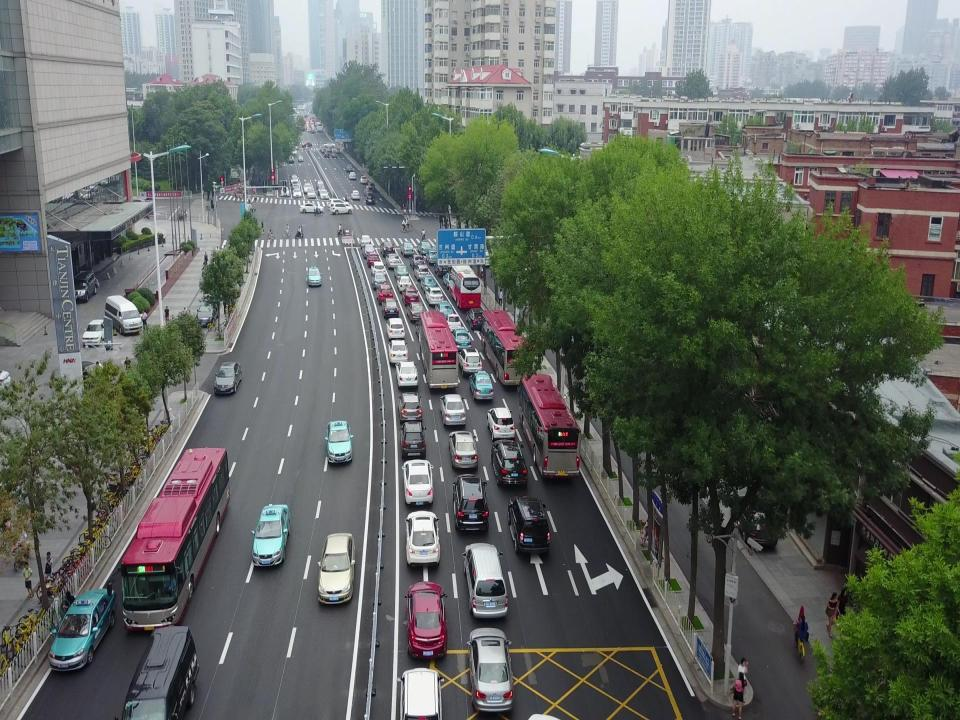bus: (122, 447, 230, 634), (518, 374, 582, 481), (480, 308, 532, 389), (419, 310, 460, 389), (448, 265, 482, 313)
car: (48, 587, 116, 673), (466, 627, 516, 710), (405, 581, 448, 658), (730, 494, 778, 550), (507, 495, 551, 556), (318, 534, 356, 604), (250, 503, 290, 567), (398, 667, 444, 719), (452, 472, 490, 532), (490, 438, 530, 489), (403, 511, 442, 563), (401, 459, 435, 504), (323, 419, 355, 462), (448, 430, 480, 467), (213, 359, 243, 396), (437, 393, 468, 428), (400, 418, 428, 456), (486, 405, 516, 440), (68, 360, 104, 389), (68, 272, 98, 303), (396, 390, 423, 421), (469, 370, 494, 400), (193, 300, 220, 327), (82, 319, 108, 346), (459, 347, 482, 376), (394, 360, 418, 387), (415, 318, 441, 342), (388, 339, 410, 364), (406, 301, 428, 323), (466, 308, 488, 330), (452, 326, 472, 350), (385, 316, 405, 340), (435, 301, 455, 320), (377, 283, 394, 305), (381, 298, 399, 317), (444, 313, 462, 332), (426, 287, 444, 306), (306, 266, 322, 287), (370, 272, 388, 290), (402, 287, 420, 305), (412, 264, 431, 281), (420, 275, 436, 294), (442, 272, 459, 289), (386, 252, 403, 268), (434, 260, 450, 277), (300, 202, 324, 213), (330, 203, 354, 214), (370, 261, 386, 277), (396, 276, 412, 292), (379, 241, 395, 257), (366, 251, 381, 268), (394, 264, 409, 280), (327, 198, 350, 208), (401, 241, 415, 257), (426, 250, 440, 266), (363, 243, 377, 258), (418, 241, 432, 256), (409, 254, 425, 267), (360, 234, 372, 248), (364, 193, 376, 205), (350, 189, 360, 199), (367, 182, 375, 192), (348, 171, 356, 179), (360, 176, 368, 183), (347, 164, 353, 172)
van: (114, 626, 200, 716), (462, 541, 510, 619), (104, 295, 142, 335), (363, 185, 373, 196)
